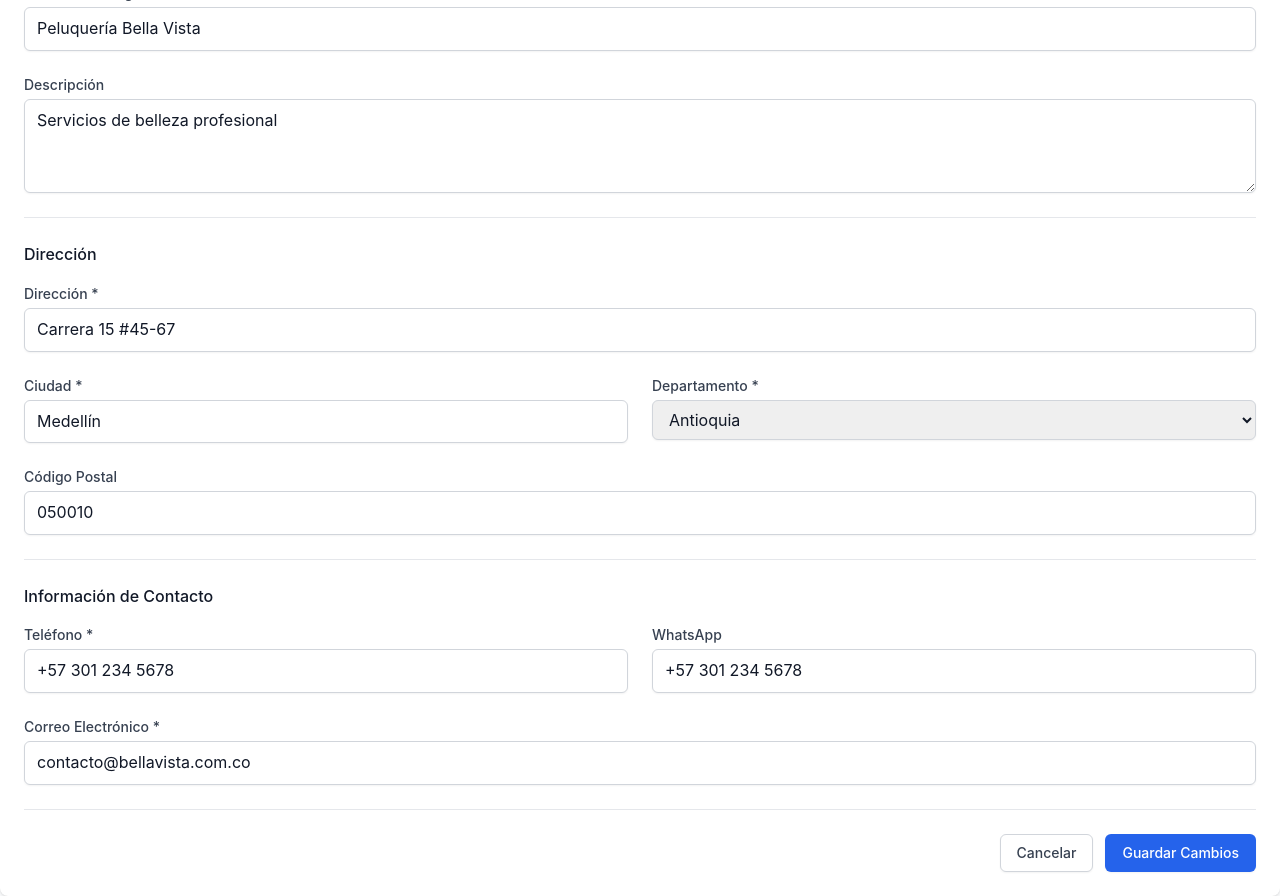
Test: BusinessProfileEditForm › handles form submission error gracefully
The width and height of the screenshot is (1280, 896).
(page scrolled)
Step 1. Click the button "Guardar Cambios" → (1181,852), box [1105,834,1256,872]
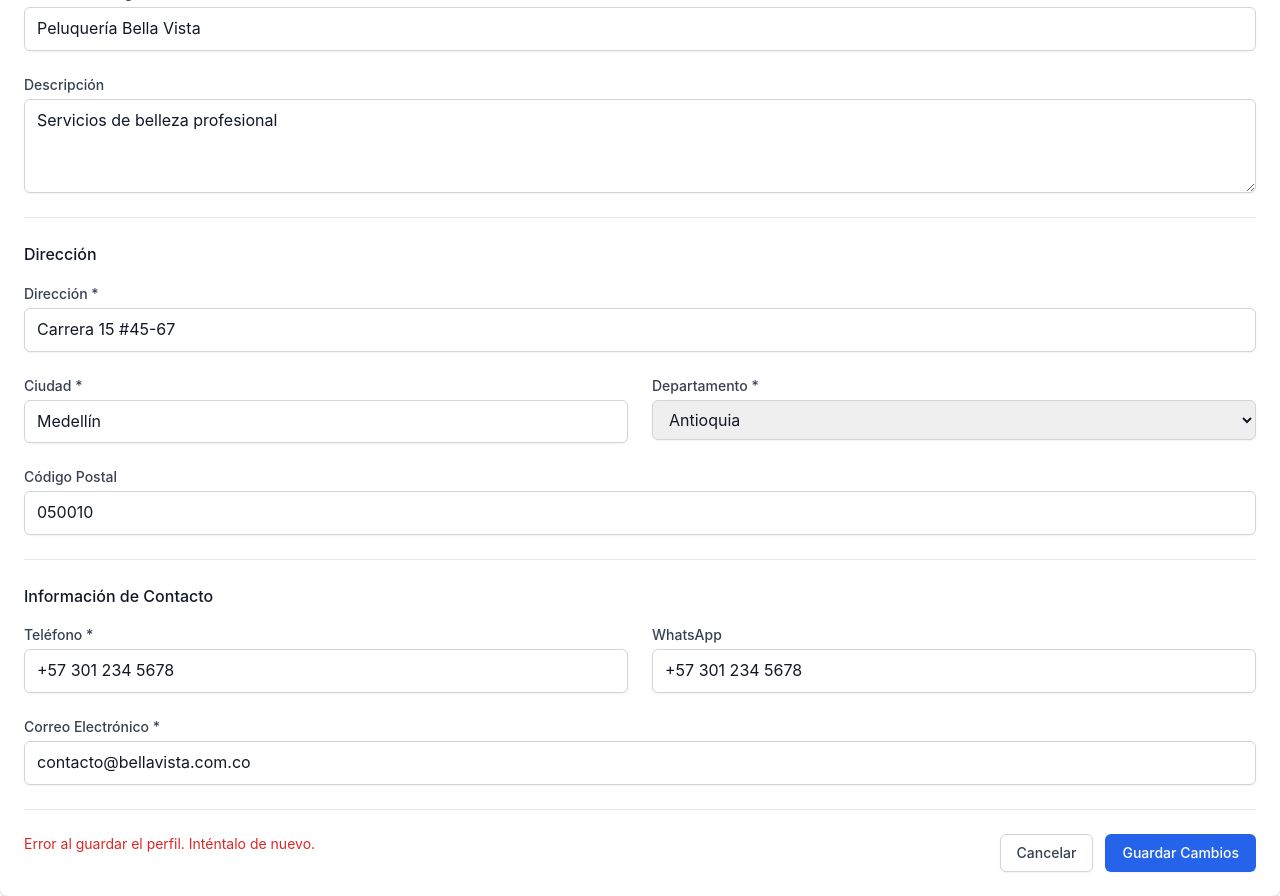
Expected: the text "Error al guardar el perfil. Inténtalo de nuevo." is shown, [24,834,315,852]
